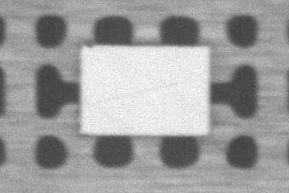DIE_CRACK: (139, 55, 265, 69)
